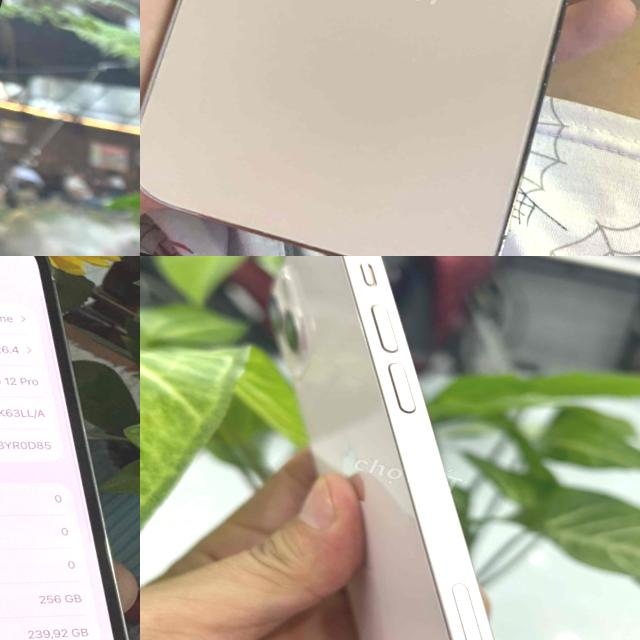gen_12_13: (154, 256, 640, 640), (140, 0, 640, 256), (0, 256, 140, 640)
